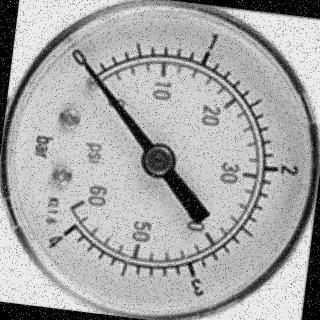gauge: (0, 0, 320, 320), (44, 210, 86, 256), (67, 49, 111, 88), (139, 140, 179, 180), (76, 56, 98, 78)
